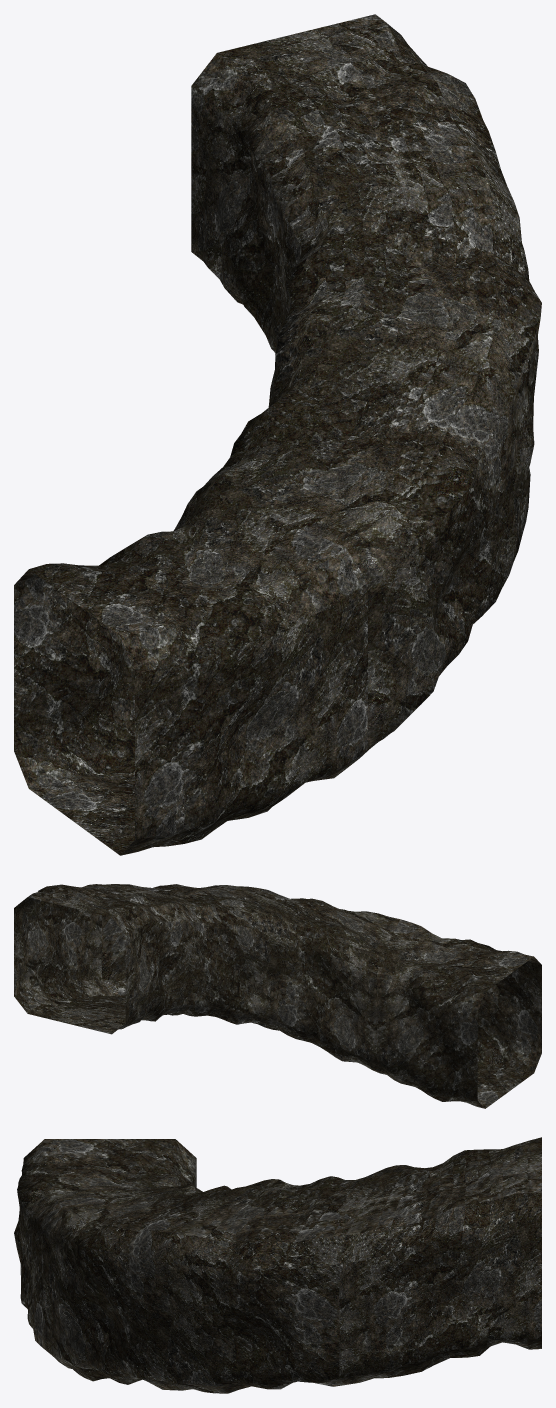
The model's file is Cave_096.fbx.
The picture shows the model from 3 angles, top to bottom: view 1: azimuth 30°, elevation 25°; view 2: azimuth 150°, elevation 25°; view 3: azimuth 270°, elevation 25°; orthographic projection. The views are drawn at different scales.
Parts seen in each view (by area): view 1: Cave.096; view 2: Cave.096; view 3: Cave.096.
Part boxes in pixels (box(x1,y1,x2,y2)): Cave.096: box(14, 14, 541, 855); Cave.096: box(14, 884, 541, 1108); Cave.096: box(14, 1137, 541, 1393).
Size of the model in its own units: 913 by 608 by 917.
